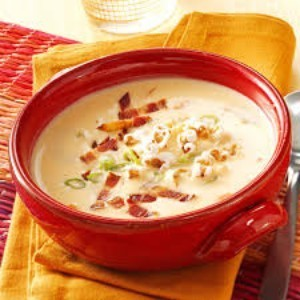cheese_brain food: (79, 110, 220, 202)
